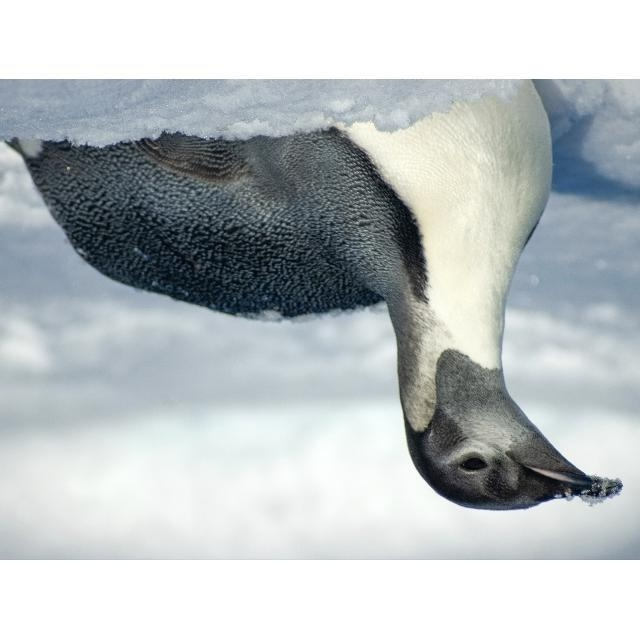penguin: (5, 83, 627, 512)
